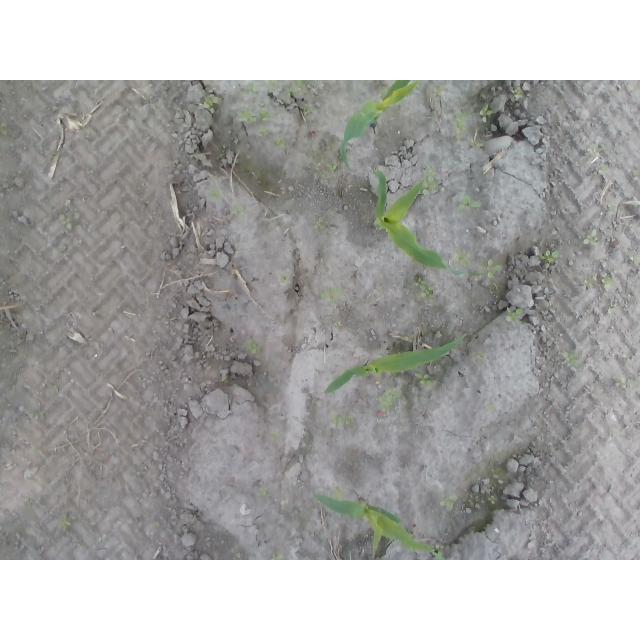Maize: (373, 170, 466, 277), (322, 334, 467, 395), (313, 493, 439, 560), (339, 81, 421, 164)
Weeds: (480, 260, 504, 281), (380, 387, 400, 410), (239, 109, 271, 123), (415, 276, 434, 298), (421, 176, 440, 197), (599, 271, 617, 292), (287, 80, 306, 98), (540, 248, 560, 264), (414, 373, 436, 387), (560, 351, 579, 367), (479, 104, 494, 123), (464, 194, 481, 210), (58, 213, 73, 231), (455, 113, 469, 132), (582, 229, 597, 246), (505, 308, 524, 321), (324, 287, 341, 301), (313, 216, 327, 232), (441, 496, 459, 508), (454, 254, 470, 267), (60, 512, 72, 529), (244, 339, 258, 353), (326, 162, 341, 174), (208, 186, 220, 201), (510, 86, 523, 99), (260, 126, 273, 138), (204, 96, 217, 108), (431, 86, 444, 98), (486, 493, 498, 505), (584, 278, 597, 289), (0, 120, 8, 136), (335, 416, 346, 427), (259, 487, 270, 498), (273, 137, 284, 147), (266, 80, 278, 88), (246, 86, 256, 95)
